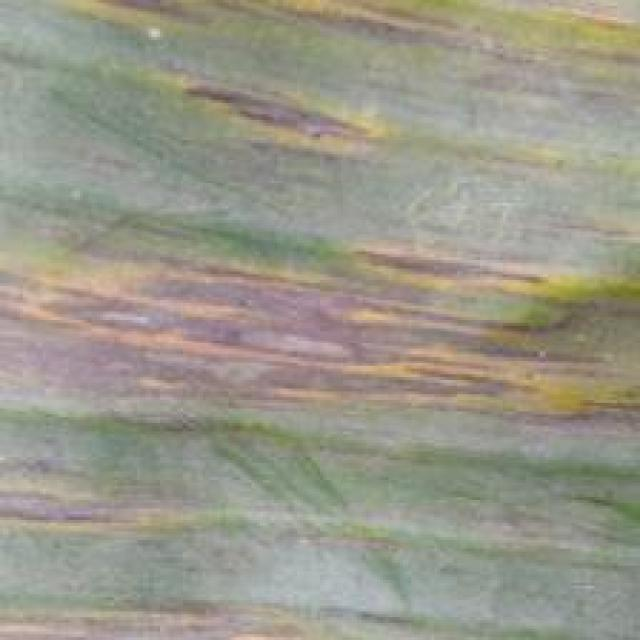Early_leaf_spot: (3, 223, 640, 443), (107, 31, 389, 153), (262, 0, 640, 82), (0, 585, 451, 640), (0, 454, 191, 548), (24, 0, 240, 37)
